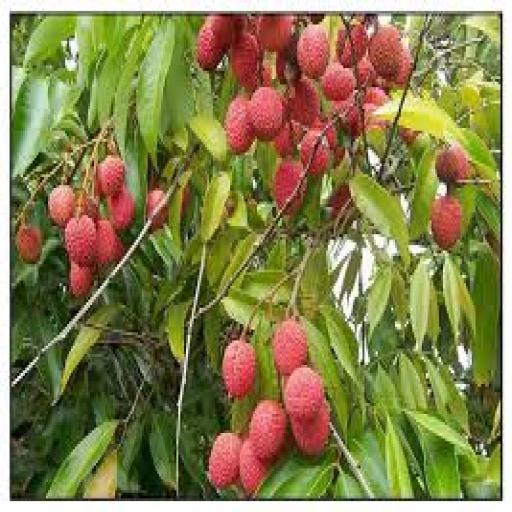lychee: (250, 401, 287, 460), (284, 365, 324, 419), (292, 401, 329, 454), (248, 88, 283, 141), (369, 25, 402, 81), (273, 319, 306, 375), (223, 341, 256, 397), (225, 96, 255, 155), (208, 434, 241, 487), (430, 197, 462, 250), (273, 161, 304, 215), (298, 25, 329, 78), (231, 33, 260, 89), (240, 439, 268, 495), (66, 216, 97, 266), (288, 79, 320, 127), (336, 25, 368, 68), (196, 22, 224, 70), (257, 14, 293, 51), (302, 128, 329, 177), (108, 186, 136, 231), (96, 218, 122, 266), (321, 63, 354, 100), (436, 145, 469, 182), (96, 156, 124, 196), (48, 186, 74, 228), (16, 224, 42, 264), (328, 183, 352, 223), (146, 188, 168, 231), (394, 47, 414, 87), (70, 262, 93, 296), (355, 58, 375, 87), (363, 88, 389, 106)
